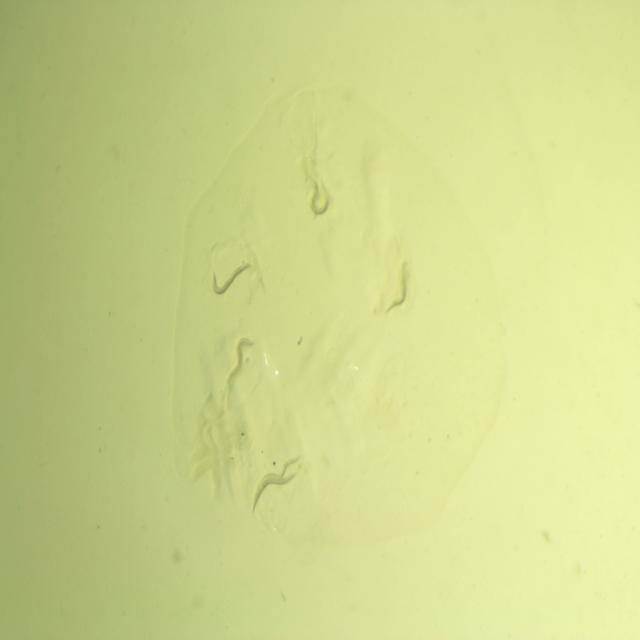worm: (249, 468, 298, 518), (255, 450, 302, 495), (210, 256, 254, 300), (382, 261, 409, 318), (227, 334, 257, 380), (308, 180, 332, 220)
